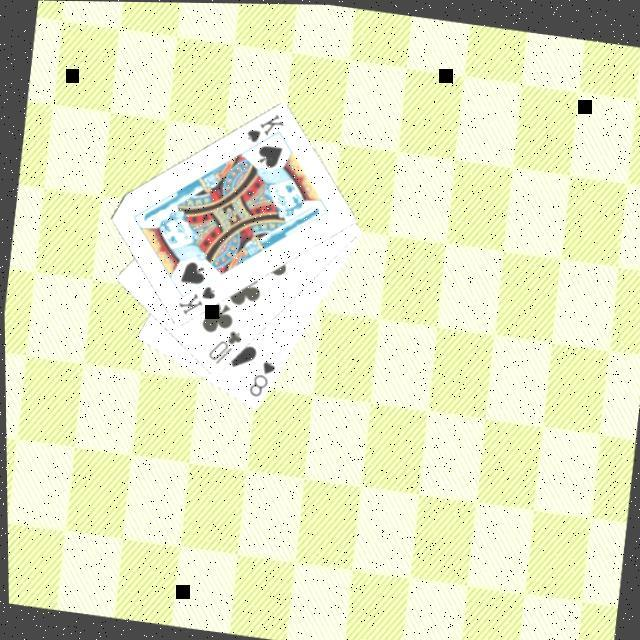10C: (200, 321, 244, 367)
8S: (241, 352, 277, 398)
KS: (238, 103, 287, 154), (170, 275, 216, 319)
